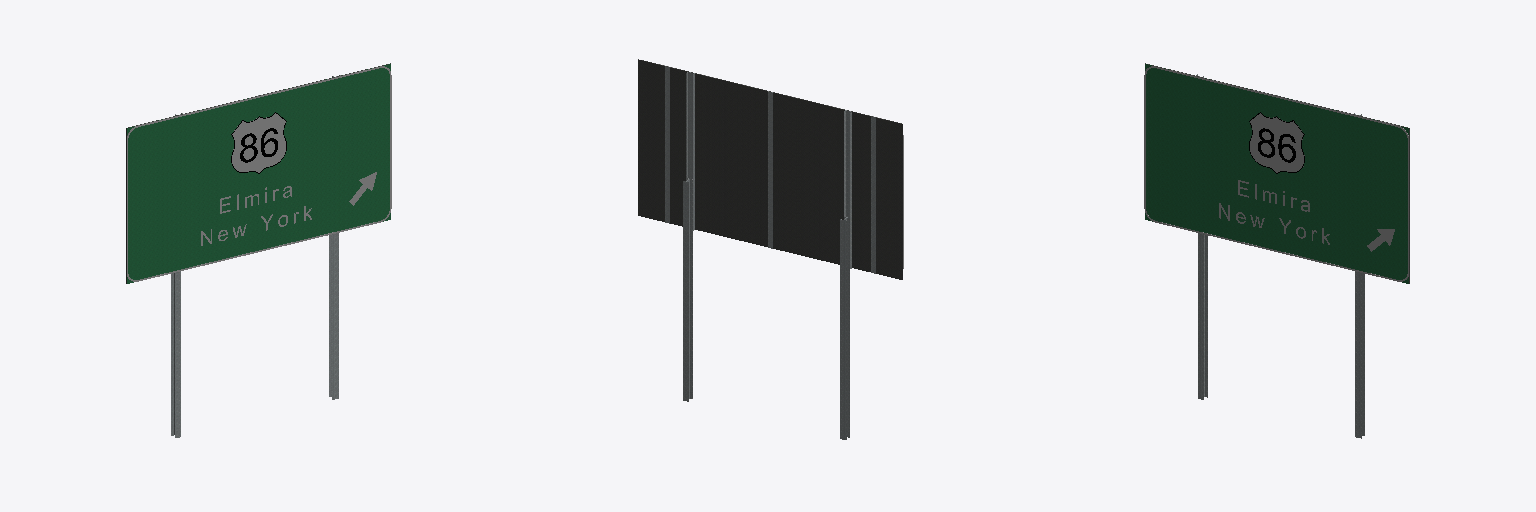
3 views of the same model, side by side, from view 1: azimuth 30°, elevation 25°; view 2: azimuth 150°, elevation 25°; view 3: azimuth 330°, elevation 25° (orthographic).
Parts seen in each view (by area): view 1: HighwayRoadSignBack01, HighwaySignBack02, IBeam02, IBeam01, HighwayRoadSignLines01, EXITName; view 2: HighwayRoadSignBack01, IBeam02, IBeam01, FlatBeam03, FlatBeam02, FlatBeam01, LBeamSml13, LBeamSml12, LBeamSml11; view 3: HighwayRoadSignBack01, HighwaySignBack02, IBeam02, IBeam01, HighwayRoadSignLines01, EXITName.
Part boxes in pixels (left/top/right/bottom): HighwayRoadSignBack01: left=126, top=63, right=390, bottom=283; HighwaySignBack02: left=232, top=113, right=285, bottom=172; IBeam02: left=329, top=233, right=338, bottom=399; IBeam01: left=171, top=271, right=180, bottom=437; HighwayRoadSignLines01: left=127, top=66, right=391, bottom=281; EXITName: left=201, top=186, right=311, bottom=245; HighwayRoadSignBack01: left=638, top=59, right=902, bottom=279; IBeam02: left=683, top=178, right=692, bottom=401; IBeam01: left=840, top=217, right=849, bottom=439; FlatBeam03: left=768, top=91, right=772, bottom=248; FlatBeam02: left=665, top=66, right=669, bottom=223; FlatBeam01: left=871, top=117, right=875, bottom=273; LBeamSml13: left=844, top=110, right=848, bottom=217; LBeamSml12: left=686, top=72, right=690, bottom=178; LBeamSml11: left=691, top=73, right=694, bottom=230; HighwayRoadSignBack01: left=1145, top=63, right=1409, bottom=283; HighwaySignBack02: left=1250, top=113, right=1304, bottom=172; IBeam02: left=1355, top=271, right=1364, bottom=438; IBeam01: left=1198, top=233, right=1207, bottom=399; HighwayRoadSignLines01: left=1144, top=66, right=1408, bottom=281; EXITName: left=1219, top=180, right=1329, bottom=244.
Bounding box in the file's own units: 162 × 189 × 6.7.
Materials: 5 (3 with a texture image).